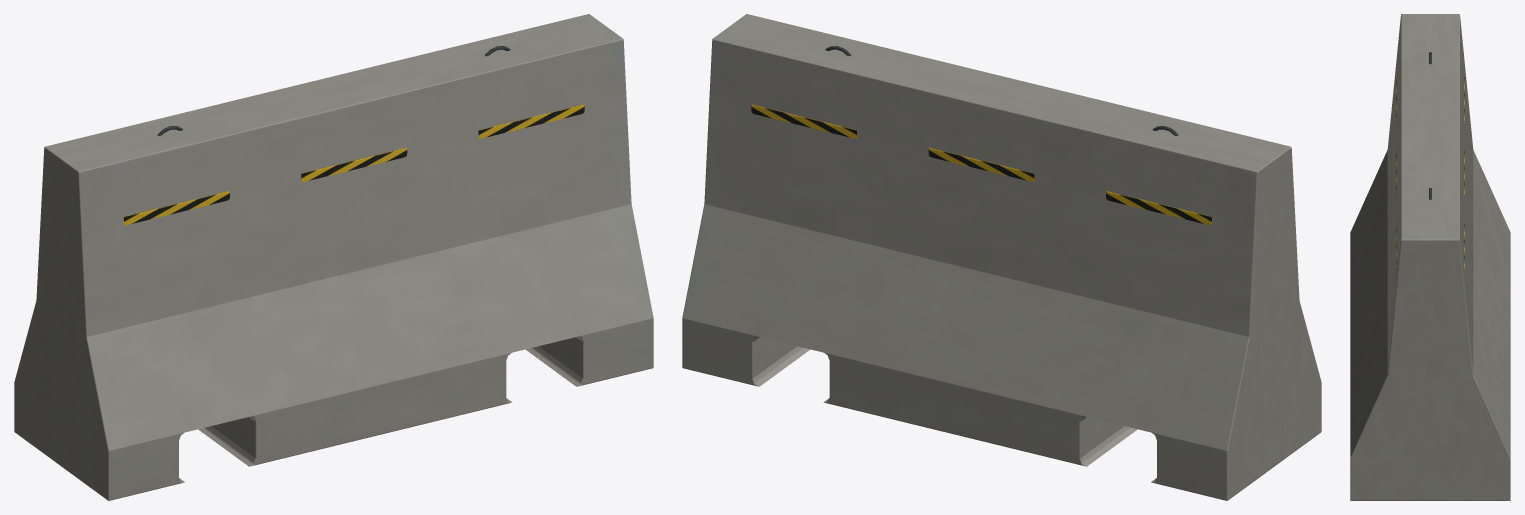
Rendered from concrete.glb.
The picture shows the model from 3 angles, left to right: view 1: azimuth 30°, elevation 25°; view 2: azimuth 150°, elevation 25°; view 3: azimuth 270°, elevation 25°; orthographic projection. The views are drawn at different scales.
Visible parts, largest first — view 1: Jersey barrier, Faded reflector.001, Faded reflector.002, Faded reflector; view 2: Jersey barrier, Faded reflector.004, Faded reflector.005, Faded reflector.003; view 3: Jersey barrier.
Part boxes in pixels (x1,y1,x2,y2): Jersey barrier: (14, 14, 653, 500); Faded reflector.001: (301, 147, 407, 182); Faded reflector.002: (478, 104, 584, 138); Faded reflector: (123, 191, 229, 225); Jersey barrier: (682, 14, 1321, 500); Faded reflector.004: (928, 147, 1034, 182); Faded reflector.005: (751, 104, 857, 138); Faded reflector.003: (1106, 191, 1212, 225); Jersey barrier: (1350, 14, 1510, 500).
Bounding box in the file's own units: 2 × 1.1 × 0.5999.
1 material, 1 textured.
